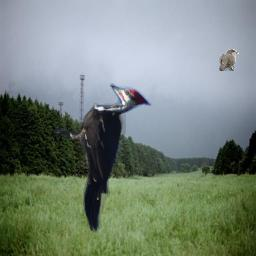Cuckoo: (219, 49, 239, 71)
Woodpecker: (51, 83, 152, 233)
